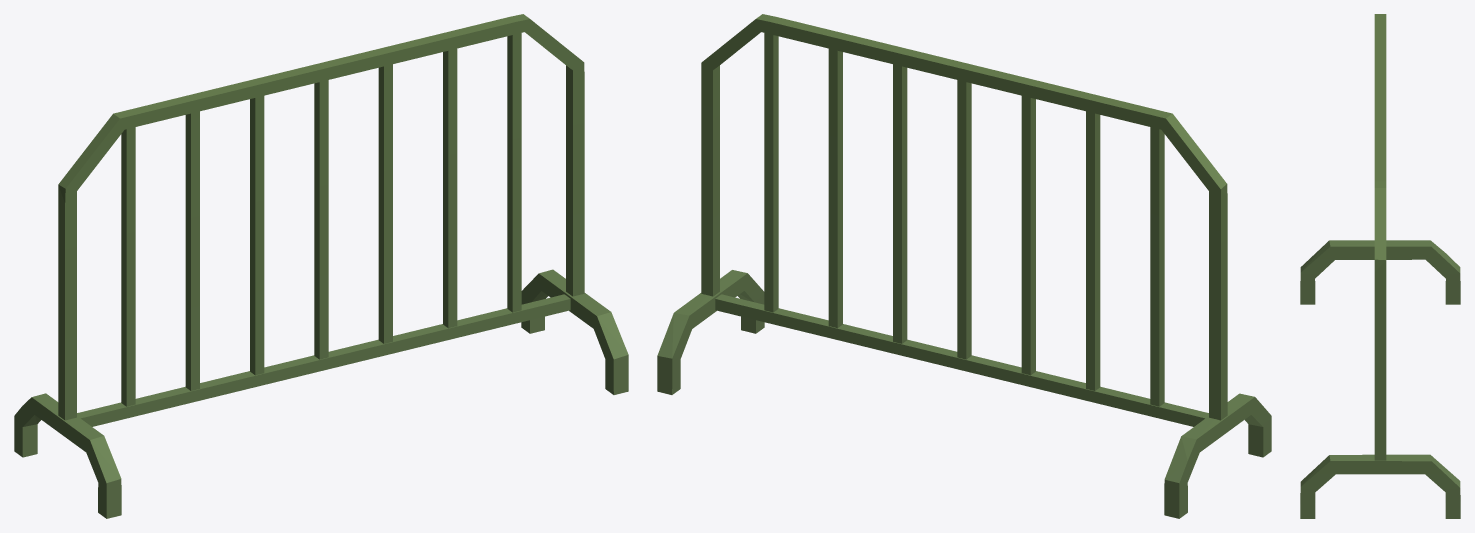
The model's file is Barrier_01.fbx.
The picture shows the model from 3 angles, left to right: view 1: azimuth 30°, elevation 25°; view 2: azimuth 150°, elevation 25°; view 3: azimuth 270°, elevation 25°; orthographic projection. The views are drawn at different scales.
Parts seen in each view (by area): view 1: Barrier_01; view 2: Barrier_01; view 3: Barrier_01.
Boxes of the visible parts, bbox=[...] form: Barrier_01: bbox=[14, 14, 628, 518]; Barrier_01: bbox=[657, 14, 1271, 518]; Barrier_01: bbox=[1300, 14, 1460, 518].
Size of the model in its own units: 1.69 by 1.1 by 0.5171.
